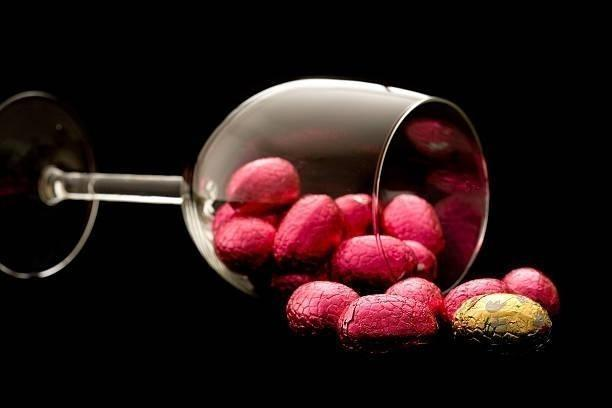glass-wine: (1, 76, 490, 301)
